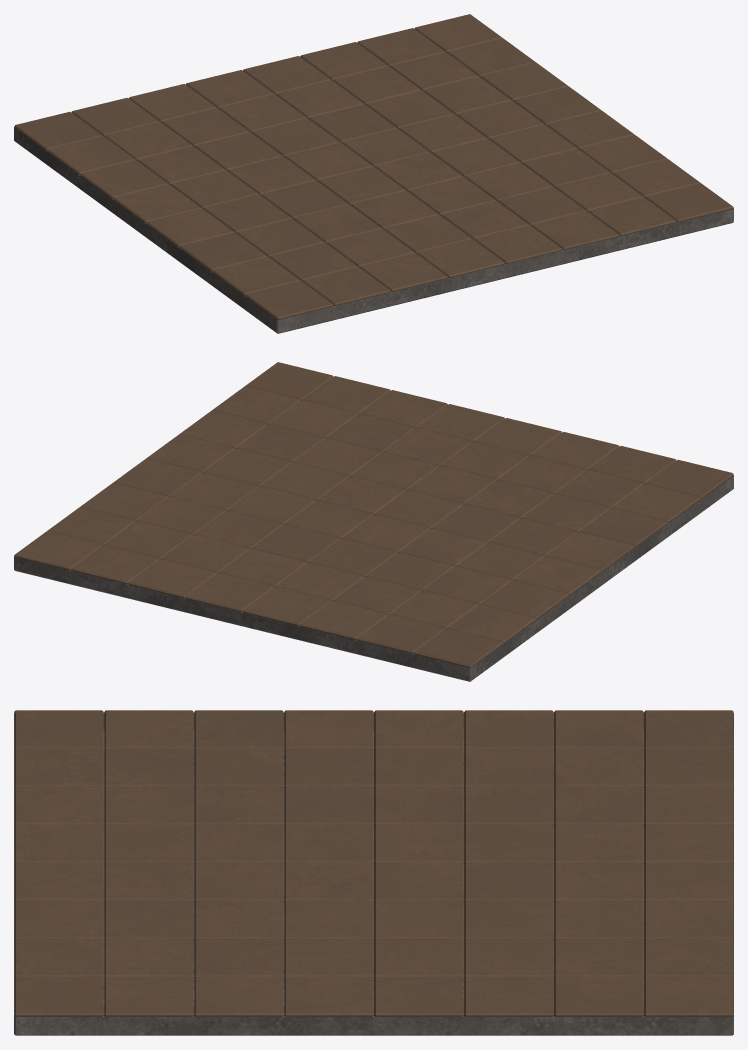
Rendered from SK6 CEILING LARGE.fbx.
3 renders of one model, top to bottom at view 1: azimuth 30°, elevation 25°; view 2: azimuth 150°, elevation 25°; view 3: azimuth 270°, elevation 25°, orthographic. The views are drawn at different scales.
Visible parts, largest first — view 1: SK6 CEILING LARGE; view 2: SK6 CEILING LARGE; view 3: SK6 CEILING LARGE.
Boxes of the visible parts, x1,y1,x2,y2 form: SK6 CEILING LARGE: (14, 14, 733, 333); SK6 CEILING LARGE: (14, 362, 733, 681); SK6 CEILING LARGE: (14, 710, 733, 1035).
Size of the model in its own units: 400 by 13.93 by 400.
